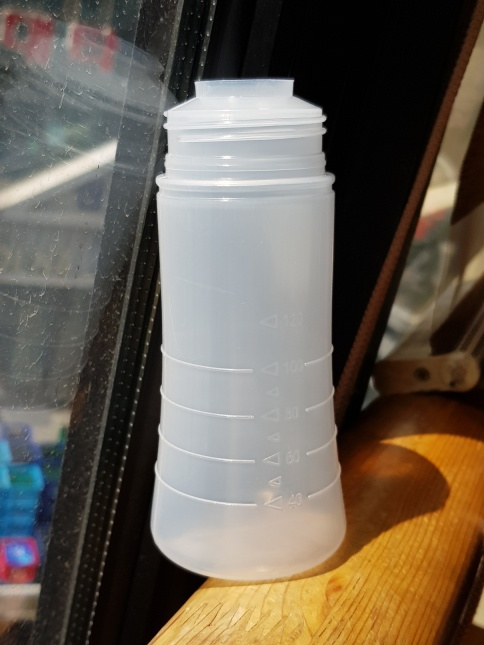Plastic: (146, 73, 358, 583)
